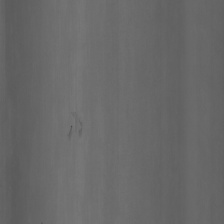water_spot: (65, 106, 84, 150)
